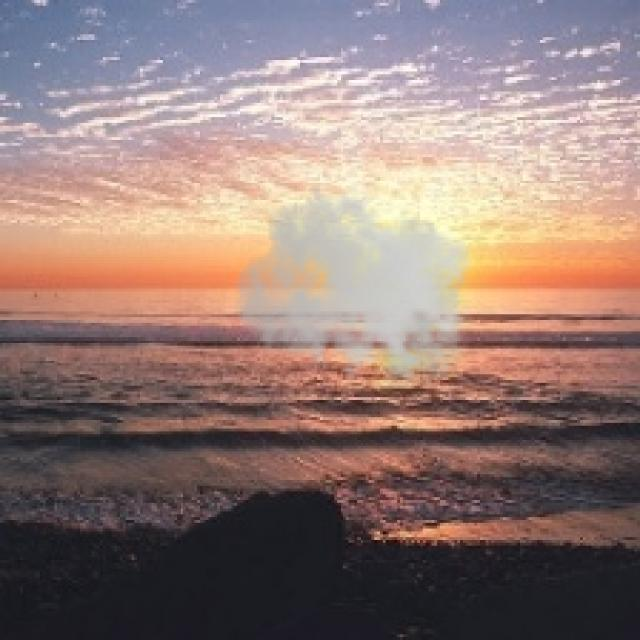Smoke: (235, 186, 480, 394)
